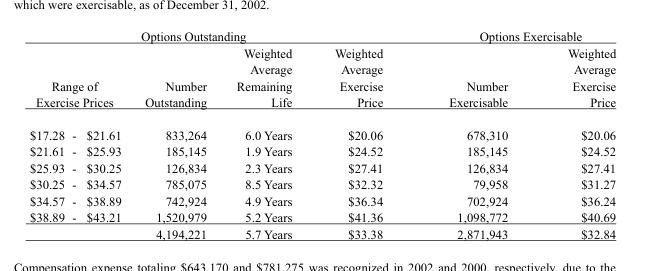table: (29, 29, 615, 240)
table column: (415, 29, 537, 240), (29, 29, 132, 240), (312, 29, 415, 240), (220, 29, 312, 240), (132, 29, 220, 240), (537, 29, 615, 240)
table column header: (29, 29, 615, 118)
table row: (29, 44, 615, 118), (29, 118, 615, 142), (29, 142, 615, 159), (29, 175, 615, 192), (29, 208, 615, 225), (29, 159, 615, 175), (29, 192, 615, 208), (29, 29, 615, 44), (29, 225, 615, 240)
table spanning cell: (312, 29, 615, 44), (29, 29, 312, 44)
